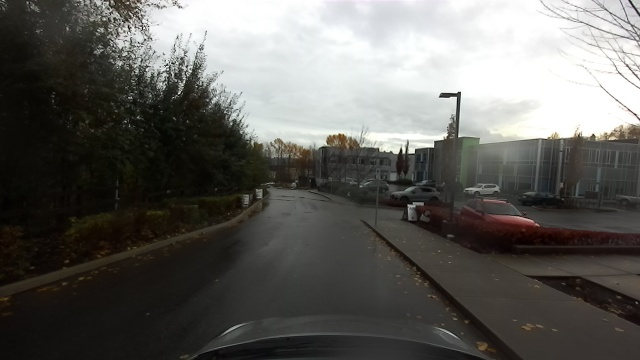car: (454, 193, 543, 235), (386, 181, 441, 200), (515, 191, 552, 207), (464, 181, 503, 196), (610, 190, 640, 208), (357, 179, 390, 195), (346, 175, 362, 188)
